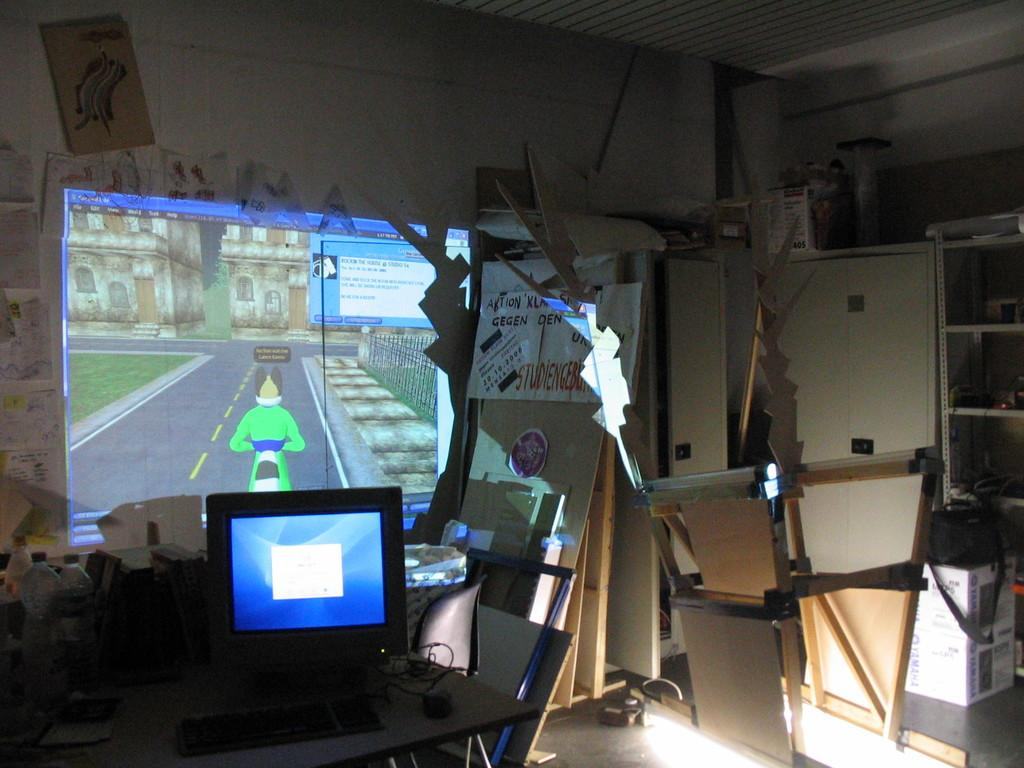Computer-monitor: (205, 495, 407, 704)
